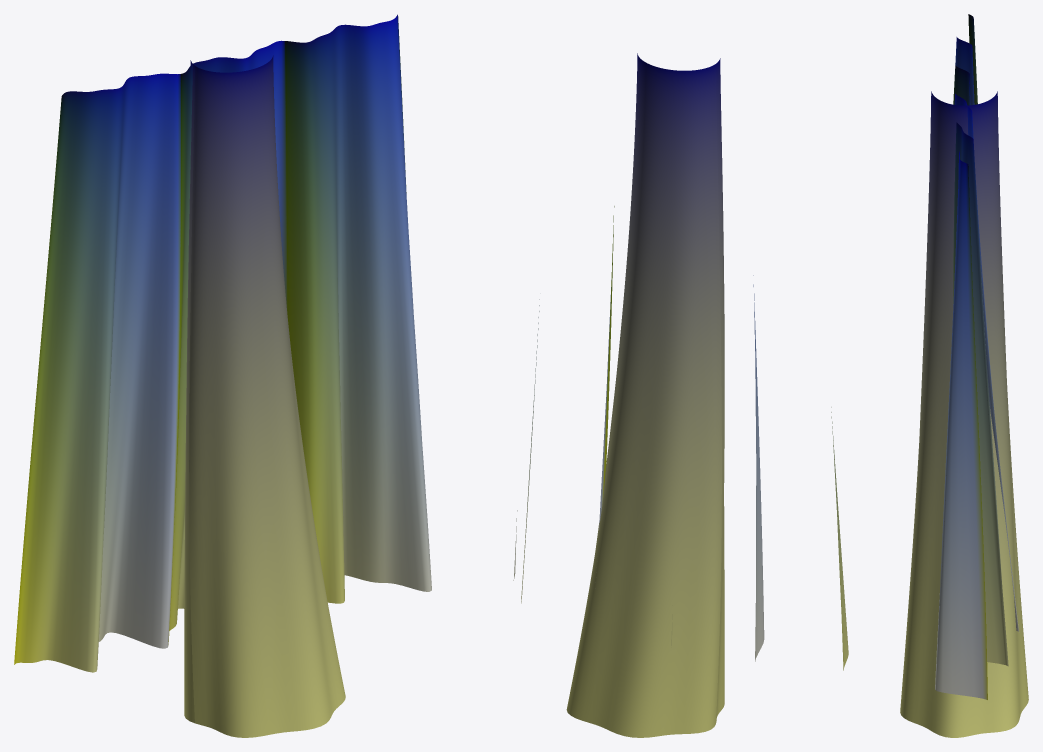
Rendered from shader_test_cloth.glb.
3 renders of one model, left to right at view 1: azimuth 30°, elevation 25°; view 2: azimuth 150°, elevation 25°; view 3: azimuth 270°, elevation 25°, orthographic. The views are drawn at different scales.
Visible parts, largest first — view 1: Drape, Sleeve; view 2: Sleeve, Drape; view 3: Sleeve, Drape.
Part boxes in pixels (bbox=[...]): Drape: bbox=[14, 14, 431, 672]; Sleeve: bbox=[184, 55, 345, 737]; Sleeve: bbox=[566, 53, 724, 737]; Drape: bbox=[513, 206, 848, 670]; Sleeve: bbox=[900, 91, 1028, 737]; Drape: bbox=[935, 14, 1018, 699].
Bounding box in the file's own units: 0.62 × 0.95 × 0.1841.
